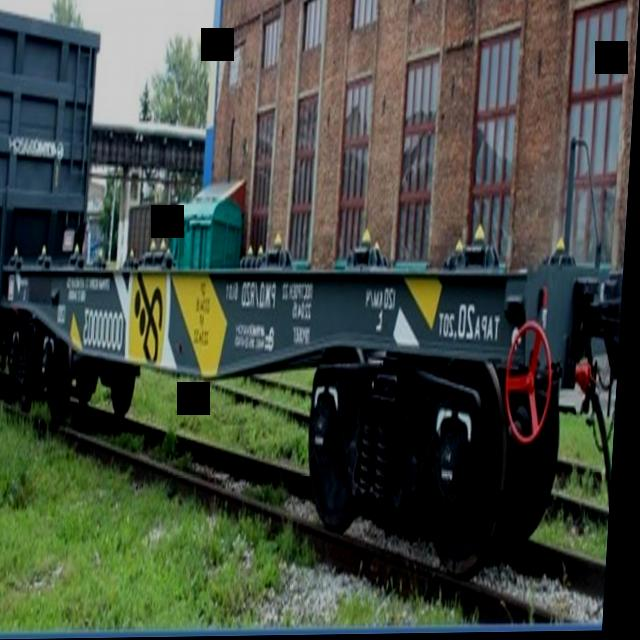flatcar: (0, 249, 605, 579)
